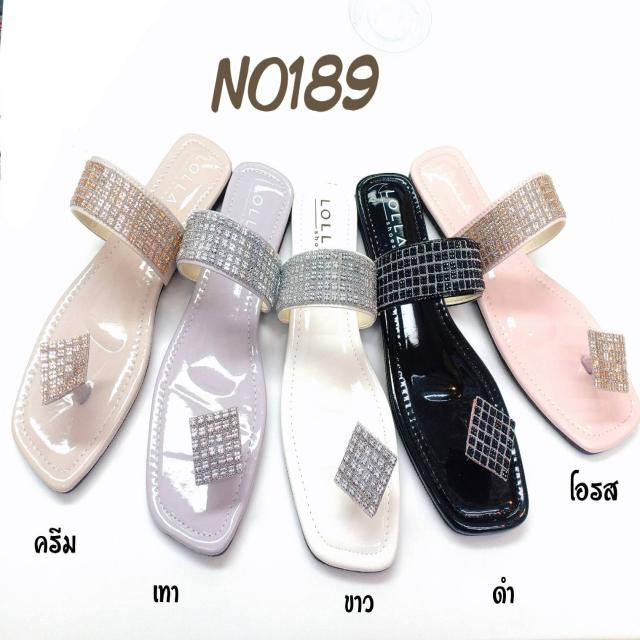black: (360, 179, 520, 530)
cream: (14, 128, 224, 491)
grey: (149, 165, 293, 547)
orot: (415, 146, 637, 454)
white: (286, 177, 400, 570)
